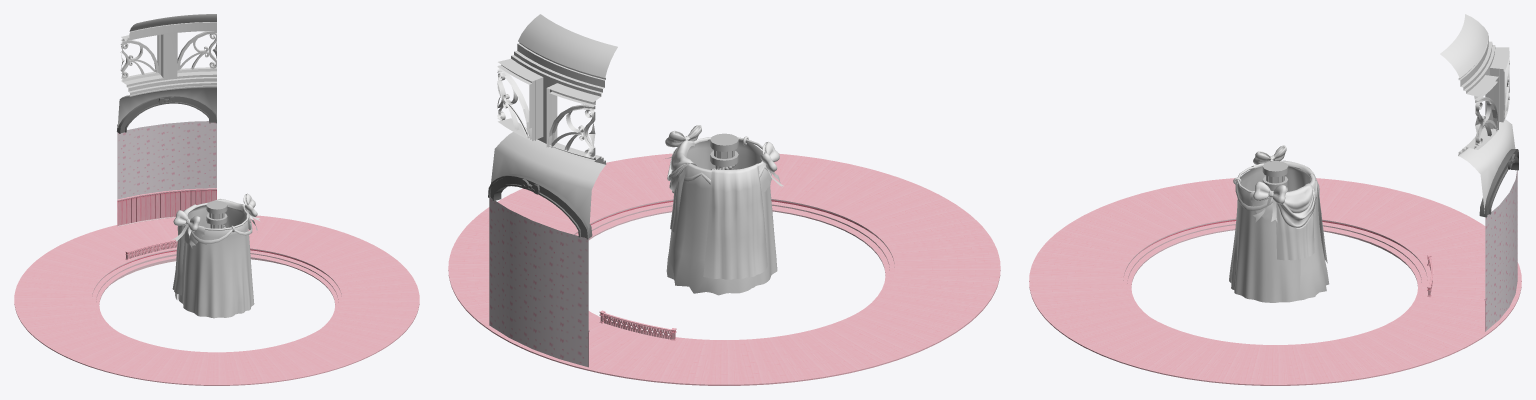
The model's file is bossroom.fbx.
The picture shows the model from 3 angles, left to right: view 1: azimuth 30°, elevation 25°; view 2: azimuth 150°, elevation 25°; view 3: azimuth 270°, elevation 25°; orthographic projection. The views are drawn at different scales.
Parts seen in each view (by area): view 1: woodplate001, wall_base006, topparts, Cylinder004, wall006, dansangstep001, Torus001, arch005, pillar_boss, Object006; view 2: woodplate001, topparts, wall_base006, Torus001, Plane002, dansangstep001, Cylinder004, arch005, pillar_boss, Object006; view 3: woodplate001, topparts, Cylinder004, Torus001, wall_base006, dansangstep001, Plane002, arch005, pillar_boss.
Boxes of the visible parts, x1=… form: woodplate001: x1=14, y1=215, x2=419, y2=385; wall_base006: x1=117, y1=121, x2=216, y2=200; topparts: x1=117, y1=14, x2=216, y2=131; Cylinder004: x1=178, y1=205, x2=254, y2=318; wall006: x1=117, y1=188, x2=216, y2=226; dansangstep001: x1=92, y1=250, x2=341, y2=330; Torus001: x1=172, y1=193, x2=259, y2=295; arch005: x1=117, y1=96, x2=216, y2=133; pillar_boss: x1=206, y1=200, x2=227, y2=228; Object006: x1=125, y1=240, x2=177, y2=260; woodplate001: x1=448, y1=153, x2=1000, y2=385; topparts: x1=491, y1=14, x2=617, y2=238; wall_base006: x1=489, y1=197, x2=588, y2=367; Torus001: x1=665, y1=125, x2=783, y2=279; Plane002: x1=666, y1=163, x2=755, y2=295; dansangstep001: x1=575, y1=201, x2=894, y2=316; Cylinder004: x1=674, y1=140, x2=777, y2=293; arch005: x1=488, y1=174, x2=592, y2=239; pillar_boss: x1=710, y1=133, x2=738, y2=169; Object006: x1=599, y1=310, x2=676, y2=340; woodplate001: x1=1029, y1=178, x2=1521, y2=385; topparts: x1=1440, y1=14, x2=1515, y2=213; Cylinder004: x1=1229, y1=166, x2=1318, y2=302; Torus001: x1=1233, y1=145, x2=1327, y2=263; wall_base006: x1=1485, y1=170, x2=1517, y2=331; dansangstep001: x1=1123, y1=221, x2=1427, y2=324; Plane002: x1=1298, y1=168, x2=1329, y2=299; arch005: x1=1479, y1=149, x2=1518, y2=217; pillar_boss: x1=1262, y1=160, x2=1288, y2=191.
Bounding box in the file's own units: 4673 × 2908 × 4673.
